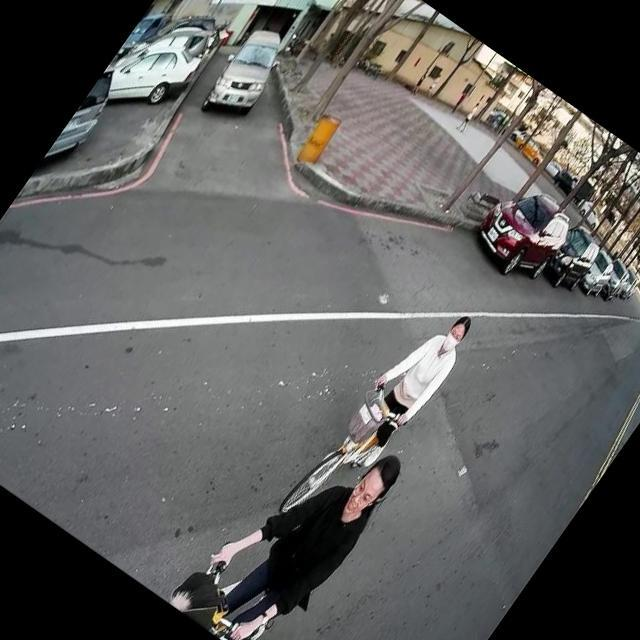person: (172, 398, 412, 640), (327, 290, 485, 480)
